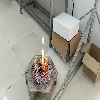fire: (40, 48, 48, 78), (32, 59, 36, 65), (42, 34, 43, 44), (35, 72, 36, 74)
